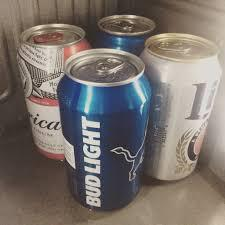beer: (16, 14, 218, 212)
